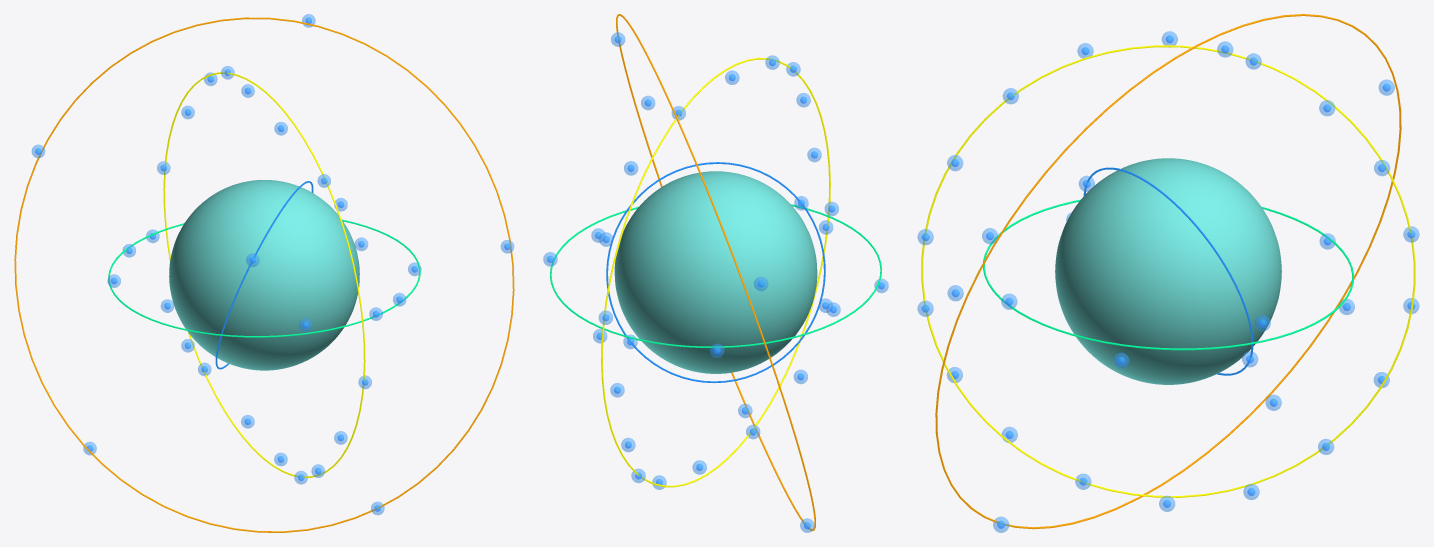
3 renders of one model, left to right at view 1: azimuth 30°, elevation 25°; view 2: azimuth 150°, elevation 25°; view 3: azimuth 270°, elevation 25°, orthographic. The views are drawn at different scales.
Parts seen in each view (by area): view 1: As, object 61, object 24, object 7; view 2: As, object 24, object 61, object 2, object 7; view 3: As, object 61, object 24, object 7, object 2.
Boxes of the visible parts, x1,y1,x2,y2 form: As: [169, 180, 359, 370]; object 61: [14, 17, 514, 532]; object 24: [163, 72, 365, 477]; object 7: [108, 219, 420, 337]; As: [614, 171, 817, 373]; object 24: [601, 57, 830, 487]; object 61: [616, 14, 815, 531]; object 2: [606, 162, 825, 382]; object 7: [550, 204, 881, 348]; As: [1055, 158, 1281, 384]; object 61: [935, 14, 1401, 529]; object 24: [921, 45, 1415, 497]; object 7: [983, 199, 1353, 350]; object 2: [1083, 167, 1253, 375].
Bounding box in the file's own units: 4.32 × 5.77 × 4.89.
